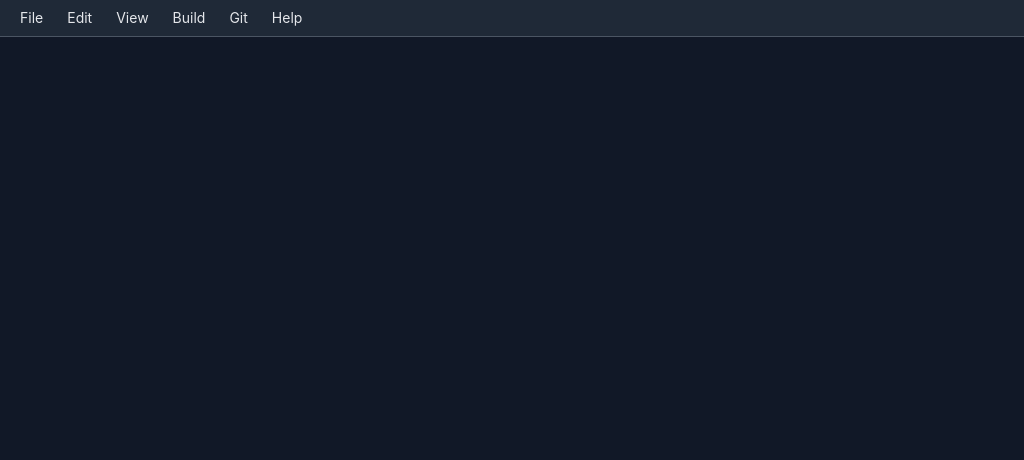
Test: MenuBar › shows "No recent projects" when recent projects list is empty
The width and height of the screenshot is (1024, 460).
Click the button with test id "menu-file".
click(32, 18)  # box [8,4,55,32]
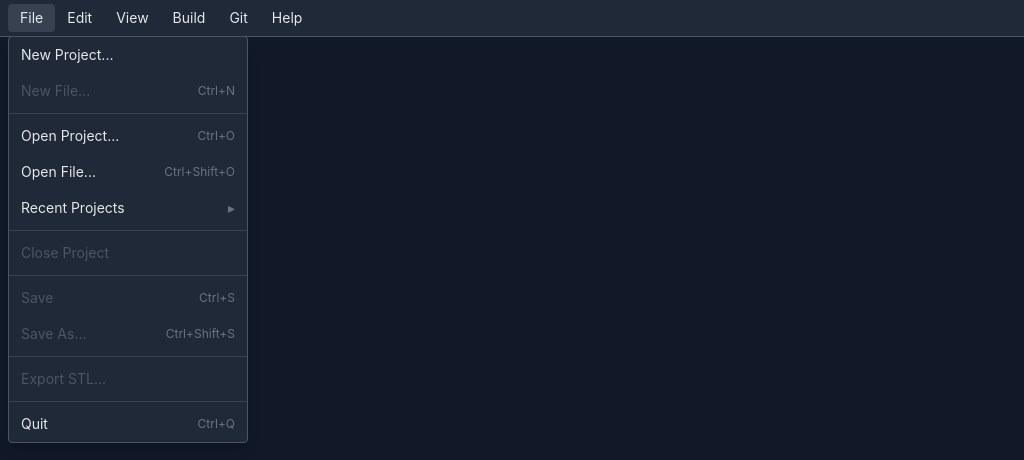
# Hover over Recent Projects to open submenu
Hover over the text "Recent Projects".
mouse_move(73, 208)  # box [21,199,235,216]
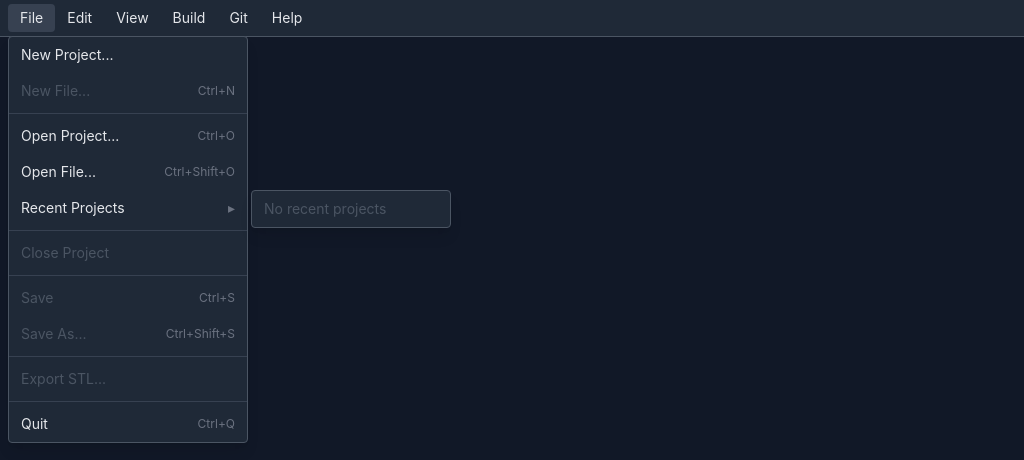
Now the text "No recent projects" is shown, box [264,199,386,219]
